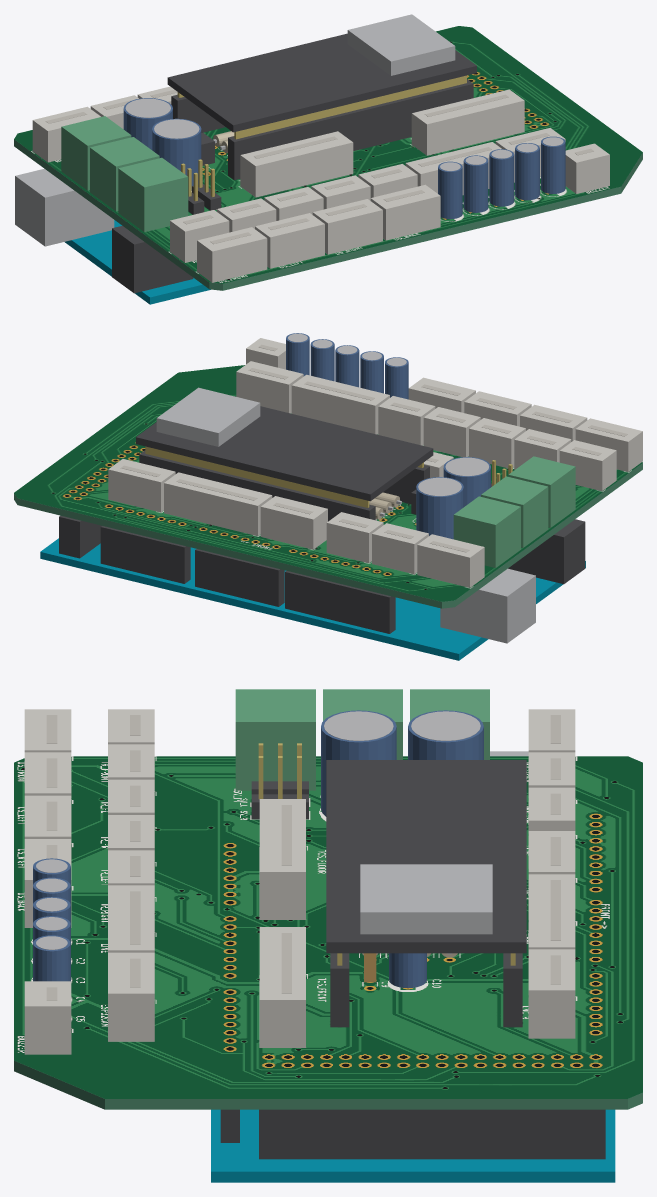
The model's file is pcb.glb.
3 views of the same model, one above another, from view 1: azimuth 30°, elevation 25°; view 2: azimuth 150°, elevation 25°; view 3: azimuth 270°, elevation 25° (orthographic). The views are drawn at different scales.
Parts seen in each view (by area): view 1: parts, esp32_board, board_top_0, arduino_mega, board_core_0; view 2: parts, arduino_mega, esp32_board, board_top_0, board_core_0; view 3: board_top_0, parts, esp32_board, arduino_mega, board_core_0.
Part boxes in pixels (box(x1,y1,x2,y2)): parts: box(32, 86, 609, 282); esp32_board: box(167, 14, 476, 180); board_top_0: box(14, 26, 642, 283); arduino_mega: box(15, 168, 210, 304); board_core_0: box(14, 139, 642, 290); parts: box(108, 333, 642, 587); arduino_mega: box(40, 515, 585, 660); esp32_board: box(136, 387, 433, 521); board_top_0: box(14, 365, 642, 601); board_core_0: box(14, 463, 642, 608); board_top_0: box(14, 756, 642, 1098); parts: box(24, 689, 575, 1054); esp32_board: box(326, 760, 526, 1027); arduino_mega: box(211, 751, 615, 1182); board_core_0: box(14, 1060, 642, 1109).
Size of the model in its own units: 113 by 30.5 by 83.
Materials: 2 (2 with a texture image).
